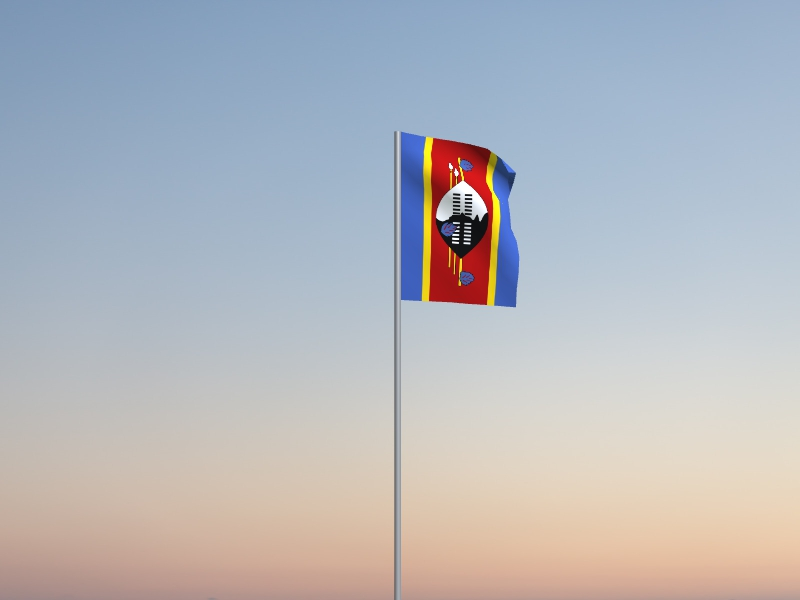sz: (401, 132, 521, 308)
